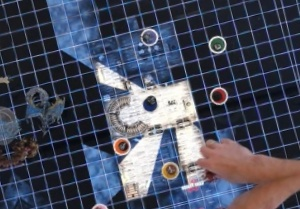blue: (140, 92, 162, 114)
green: (206, 32, 230, 57)
orange: (108, 131, 134, 156)
pink: (85, 198, 114, 209)
red: (208, 83, 232, 105)
violet: (136, 24, 163, 51)
yellow: (158, 156, 184, 182)
